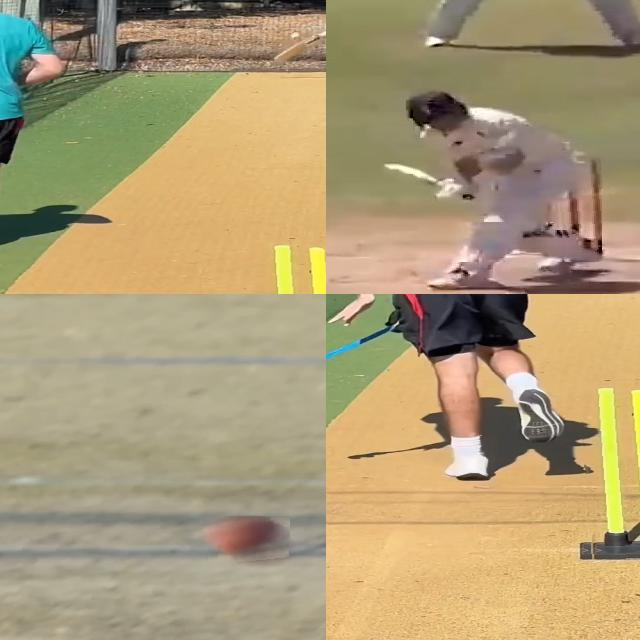Cricket ball: (205, 516, 291, 566), (289, 31, 301, 40)
Stumps: (578, 387, 640, 560), (556, 156, 602, 262)
